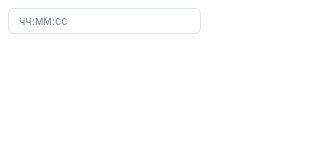
TimeField › учитывает секунды нижней границы и пересчитывает набранное время при её сдвиге
The image size is (320, 160).
Later steps or results of the test are not shown.
In the field named "Время": (104, 21) [17, 8, 192, 34], type "102029"
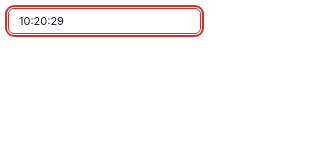
Expected: the field named "Время" holds "10:20:29"
Replace the text in the field named "Время" with "102030": (104, 21) [17, 8, 192, 34]
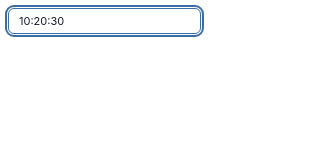
Expected: the field named "Время" does not have attribute aria-invalid, [17, 8, 192, 34]
